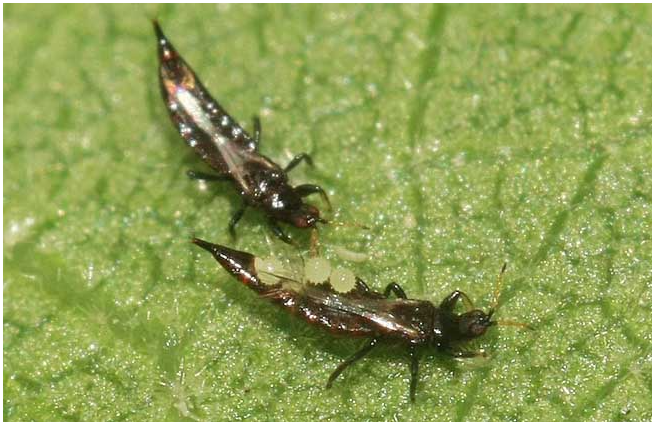thrips: (189, 236, 537, 400), (151, 15, 373, 252)
